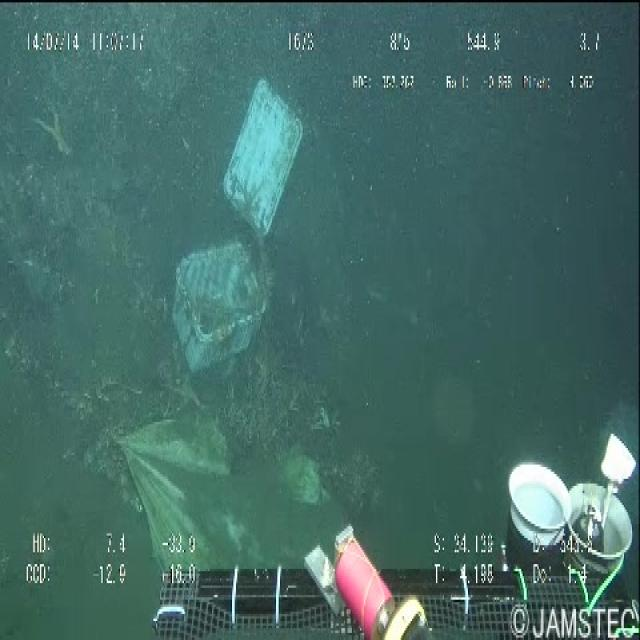plastic: (161, 57, 312, 403)
